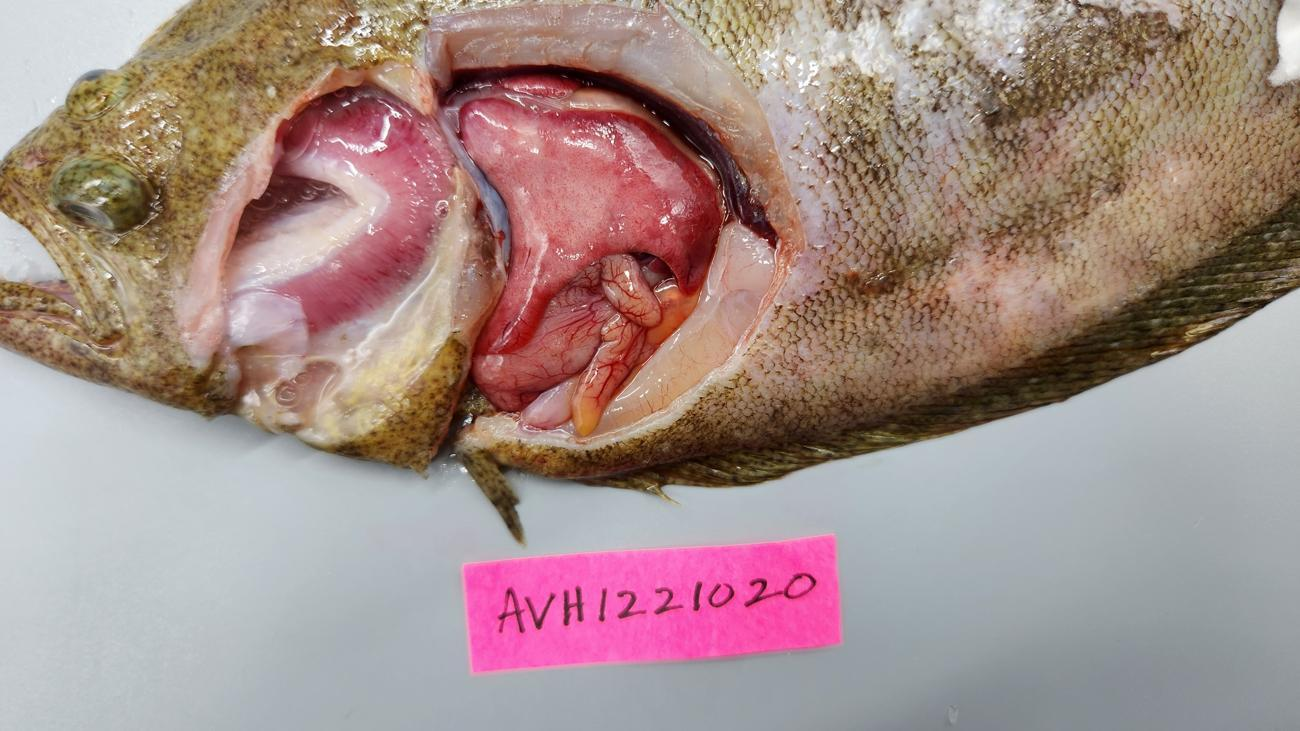VIGIP: (270, 87, 456, 334)
VILIC: (460, 95, 712, 347)
VILII: (470, 125, 604, 244)
